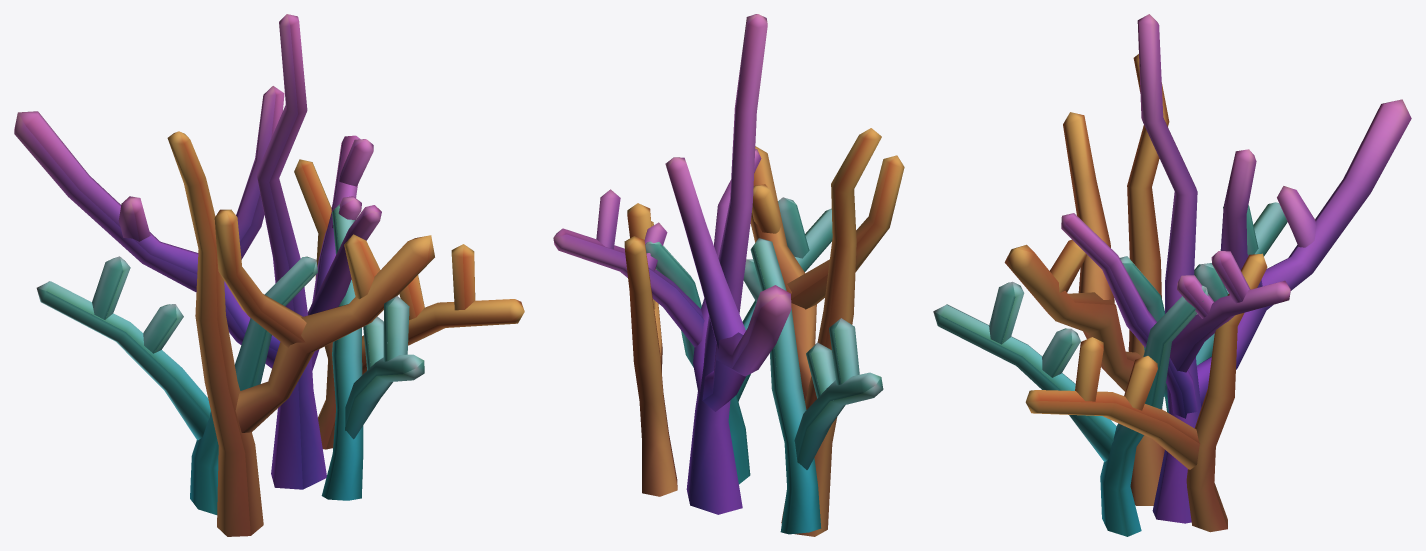
The model's file is Battle05_Other_014.FBX.
3 renders of one model, left to right at view 1: azimuth 30°, elevation 25°; view 2: azimuth 150°, elevation 25°; view 3: azimuth 270°, elevation 25°, orthographic.
Visible parts, largest first — view 1: Battle05_Other_014; view 2: Battle05_Other_014; view 3: Battle05_Other_014.
Boxes of the visible parts, box(x1,y1,x2,y2) form: Battle05_Other_014: box(14, 14, 524, 536); Battle05_Other_014: box(553, 14, 904, 536); Battle05_Other_014: box(933, 14, 1411, 536).
Size of the model in its own units: 3.52 by 4.63 by 3.93.
